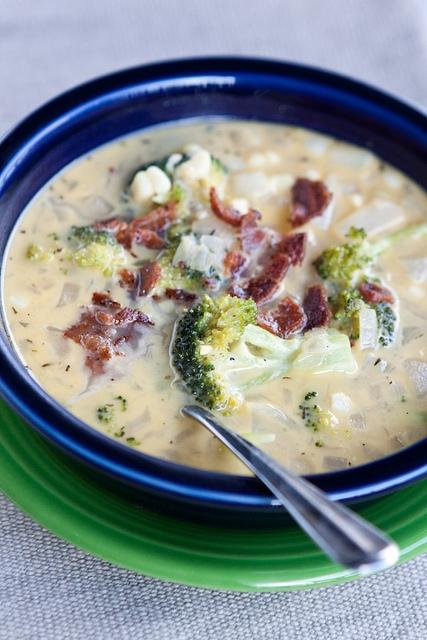broccoli: (172, 294, 306, 416), (328, 275, 397, 346), (156, 223, 207, 292), (310, 242, 372, 289), (73, 224, 126, 276), (195, 156, 231, 202), (170, 183, 188, 210), (97, 404, 115, 424), (312, 404, 322, 414)
